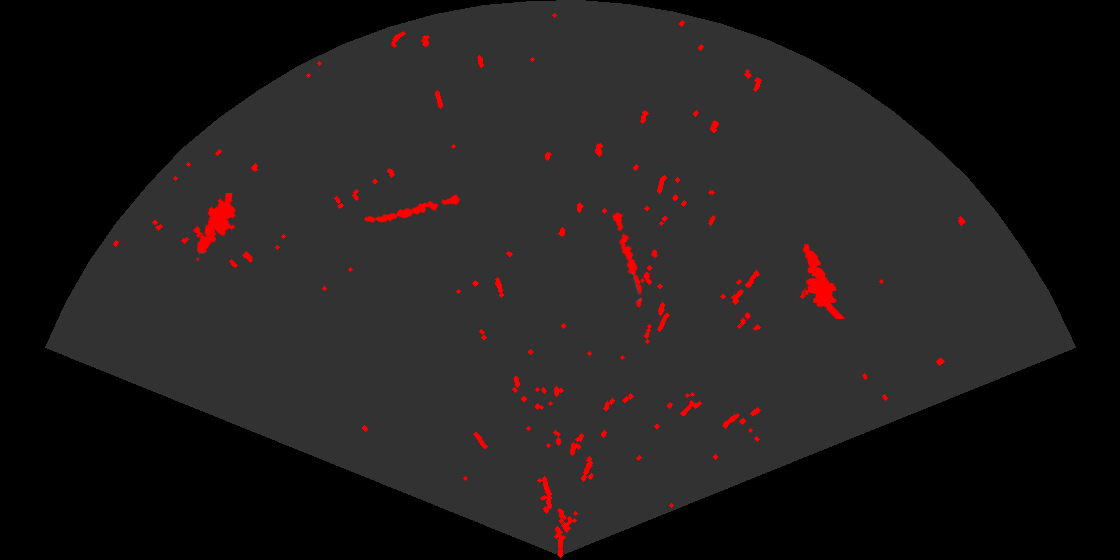chain: (611, 210, 644, 309), (362, 193, 463, 224)
frogman: (801, 242, 847, 319), (195, 193, 237, 263)
